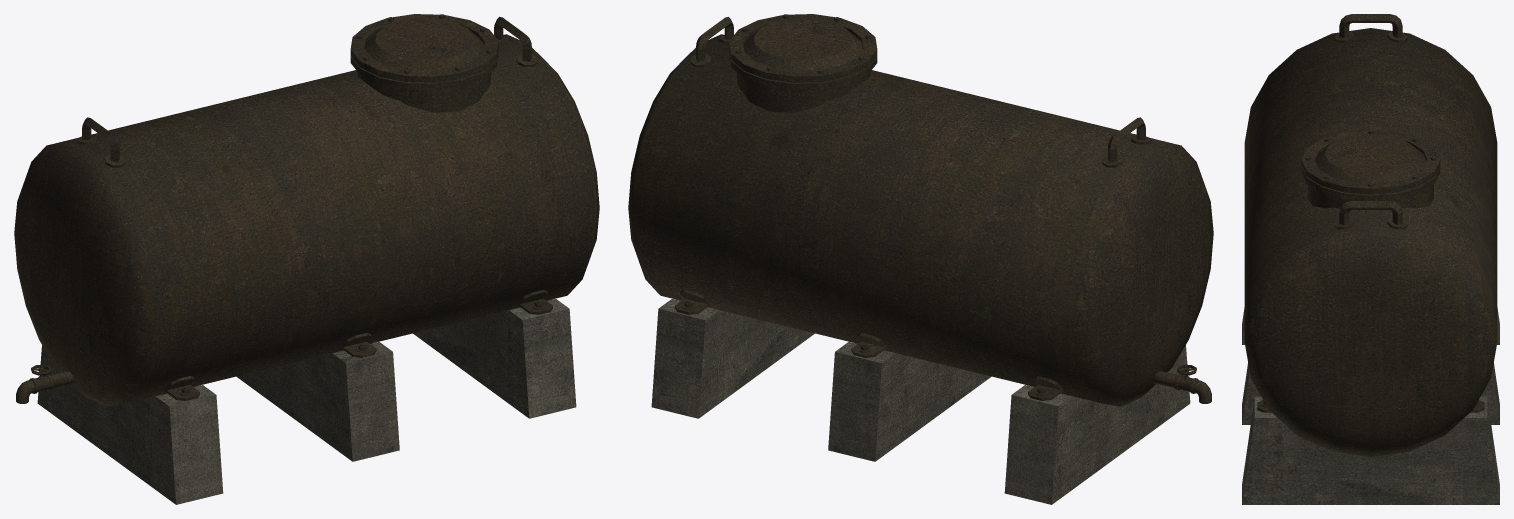
The model's file is storage_tank_mx_1.glb.
3 renders of one model, left to right at view 1: azimuth 30°, elevation 25°; view 2: azimuth 150°, elevation 25°; view 3: azimuth 270°, elevation 25°, orthographic. The views are drawn at different scales.
Parts seen in each view (by area): view 1: storage_tank_mx_1; view 2: storage_tank_mx_1; view 3: storage_tank_mx_1.
Part boxes in pixels (left/top/right/bottom): storage_tank_mx_1: left=14, top=14, right=599, bottom=504; storage_tank_mx_1: left=628, top=14, right=1213, bottom=504; storage_tank_mx_1: left=1242, top=14, right=1499, bottom=504.
Bounding box in the file's own units: 4.53 × 2.74 × 2.04.
Materials: 2 (2 with a texture image).
